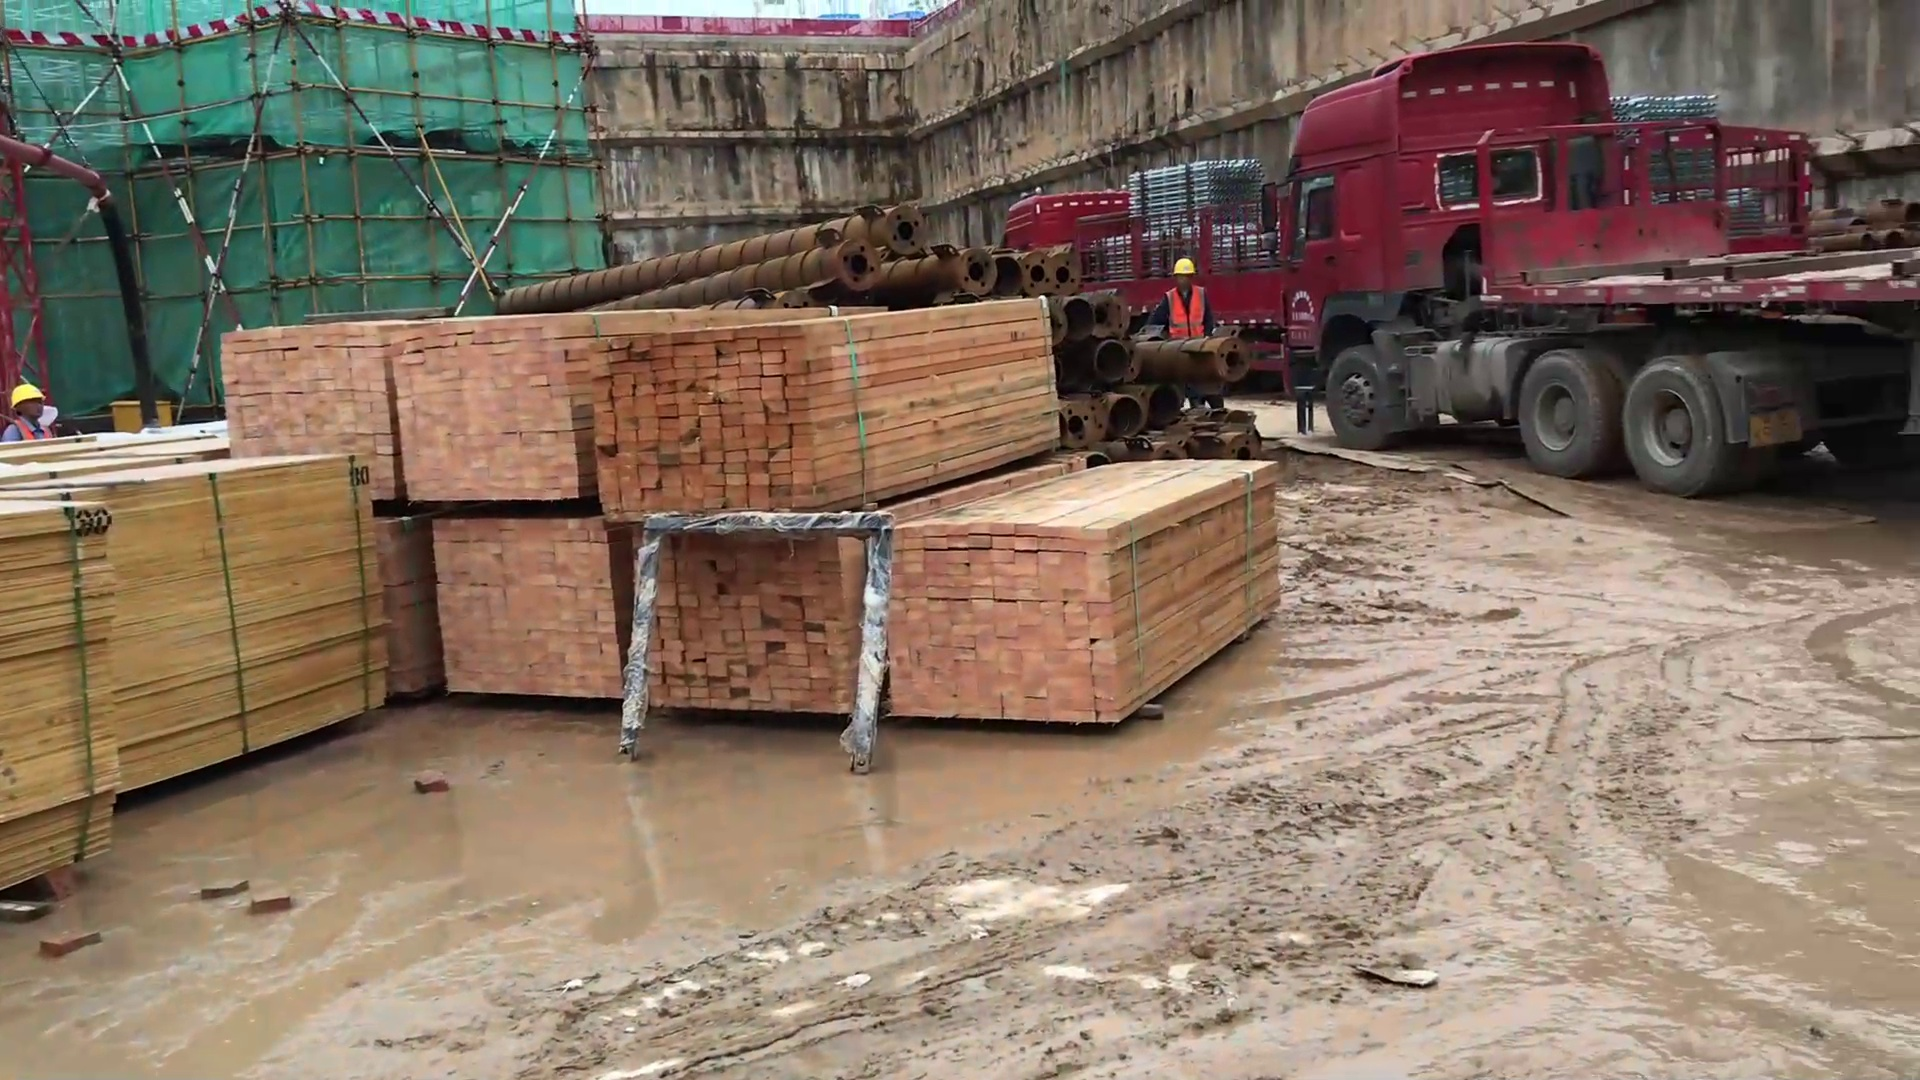board: (43, 441, 400, 781)
ebox: (110, 397, 175, 432)
helmet: (7, 385, 48, 408), (1171, 257, 1202, 276)
person: (1160, 255, 1229, 349), (1, 370, 56, 458)
scaffold: (1126, 156, 1269, 227)
vest: (1165, 282, 1207, 344)
wood: (881, 444, 1289, 753), (610, 287, 1063, 526), (632, 518, 882, 731), (382, 309, 589, 520), (430, 509, 628, 711), (221, 315, 389, 457)
